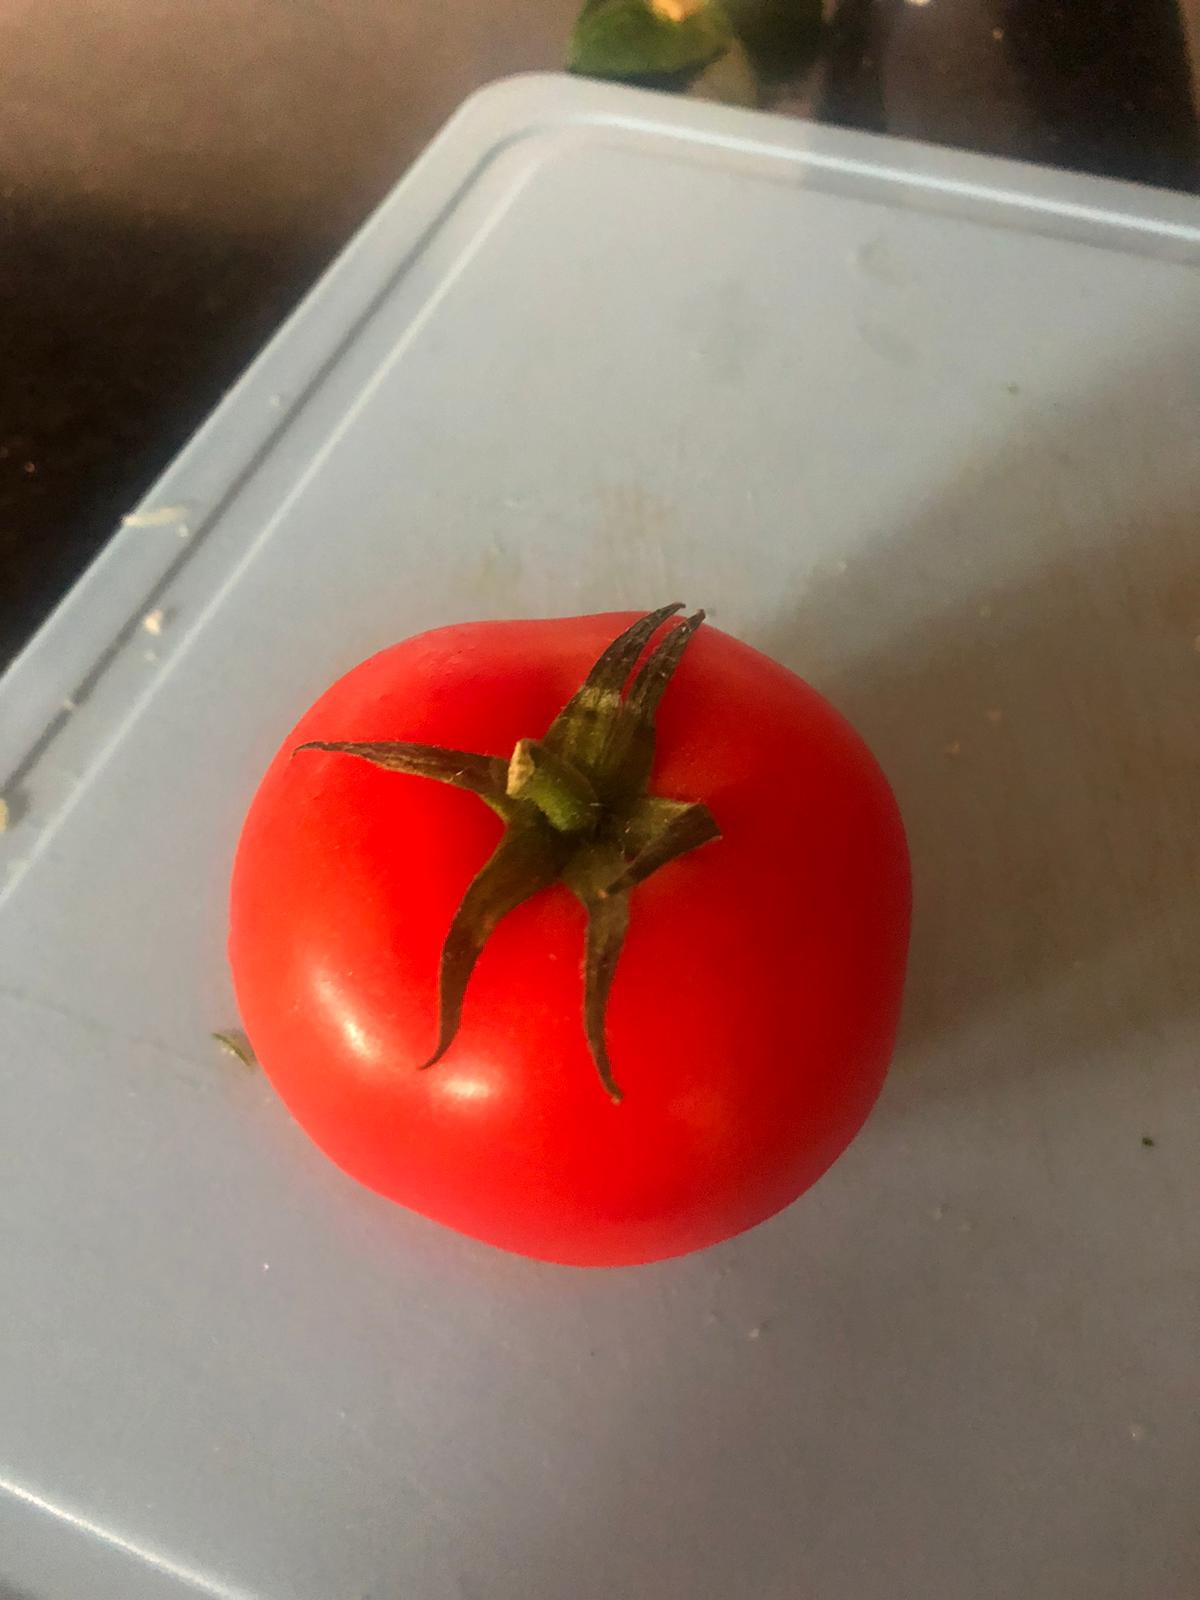Tomato: (217, 580, 920, 1265)
